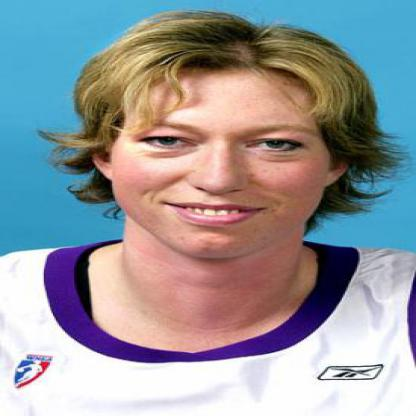face: (110, 33, 337, 261)
